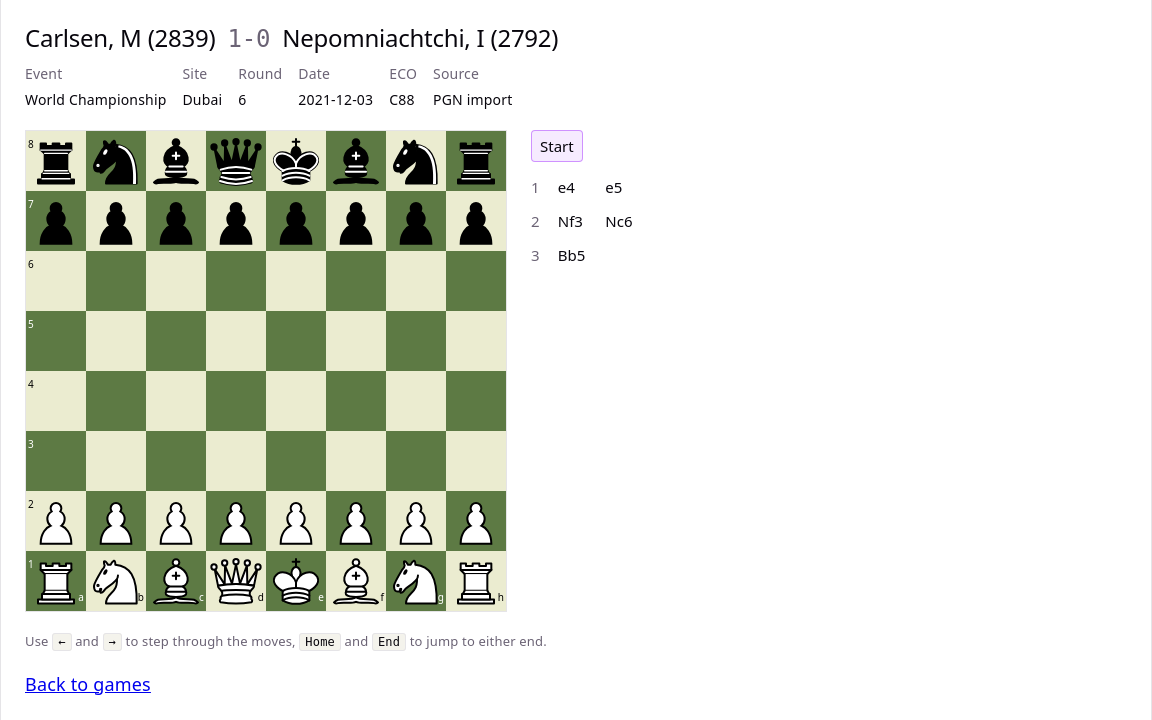
GameViewerPage › shows the position of the move that was clicked
Click the button "e4".
click(566, 187)  # box [549,171,584,203]
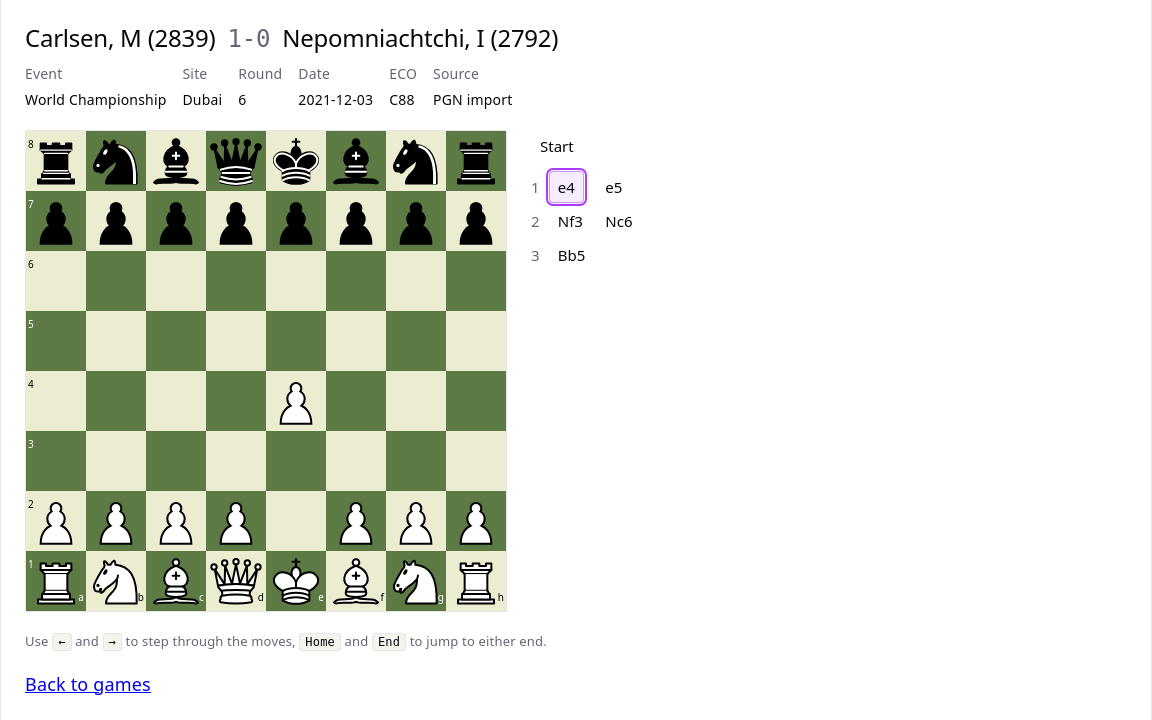
Now the picture named "e4, white pawn" is shown, box [266,370,326,430]
